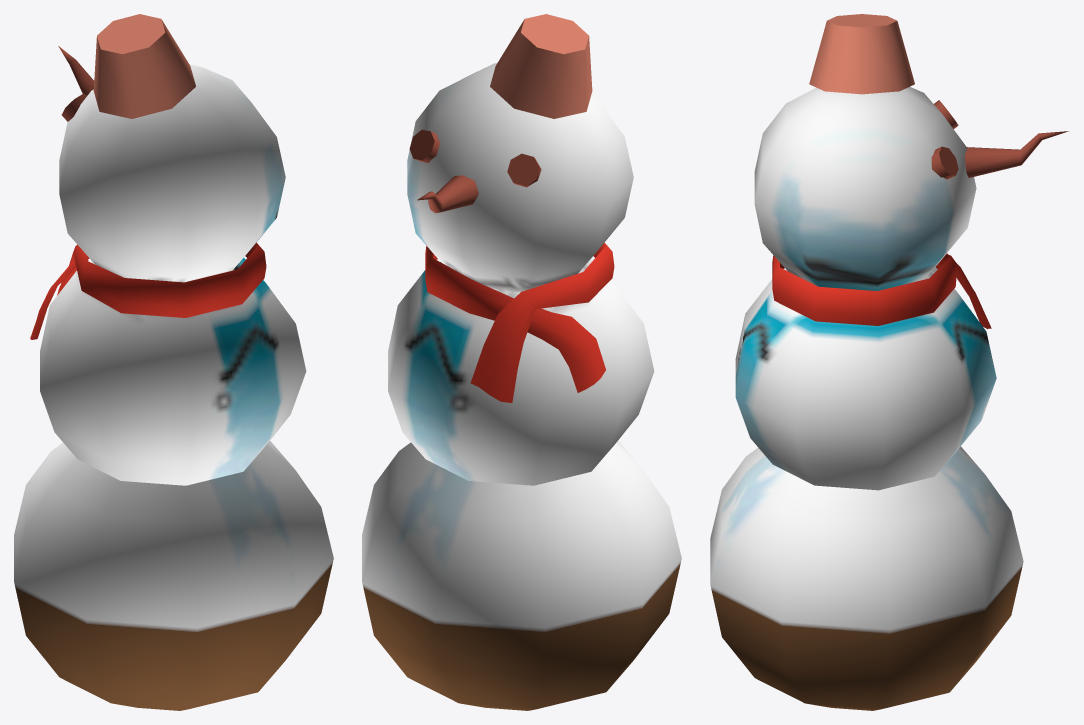
The model's file is ico_dat.ico.obj.
The picture shows the model from 3 angles, left to right: view 1: azimuth 30°, elevation 25°; view 2: azimuth 150°, elevation 25°; view 3: azimuth 270°, elevation 25°; orthographic projection. The views are drawn at different scales.
Bounding box in the file's own units: 2.09 × 4.8 × 2.36.
